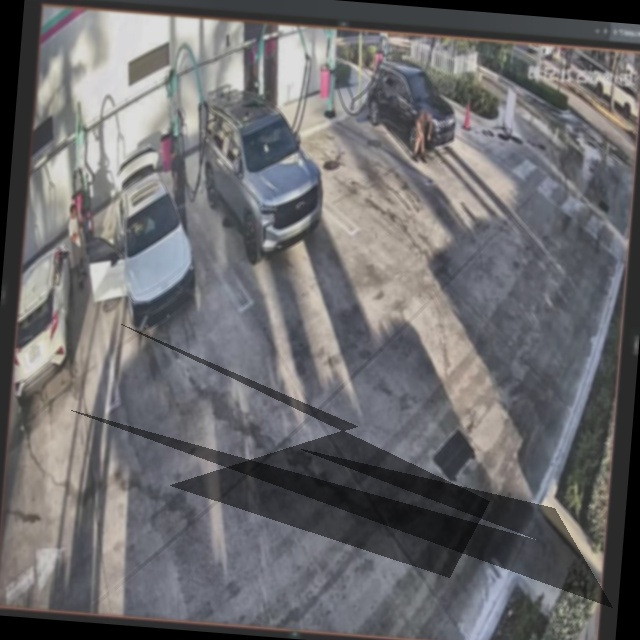Car: (194, 88, 333, 262), (92, 142, 206, 333), (363, 57, 462, 157)
